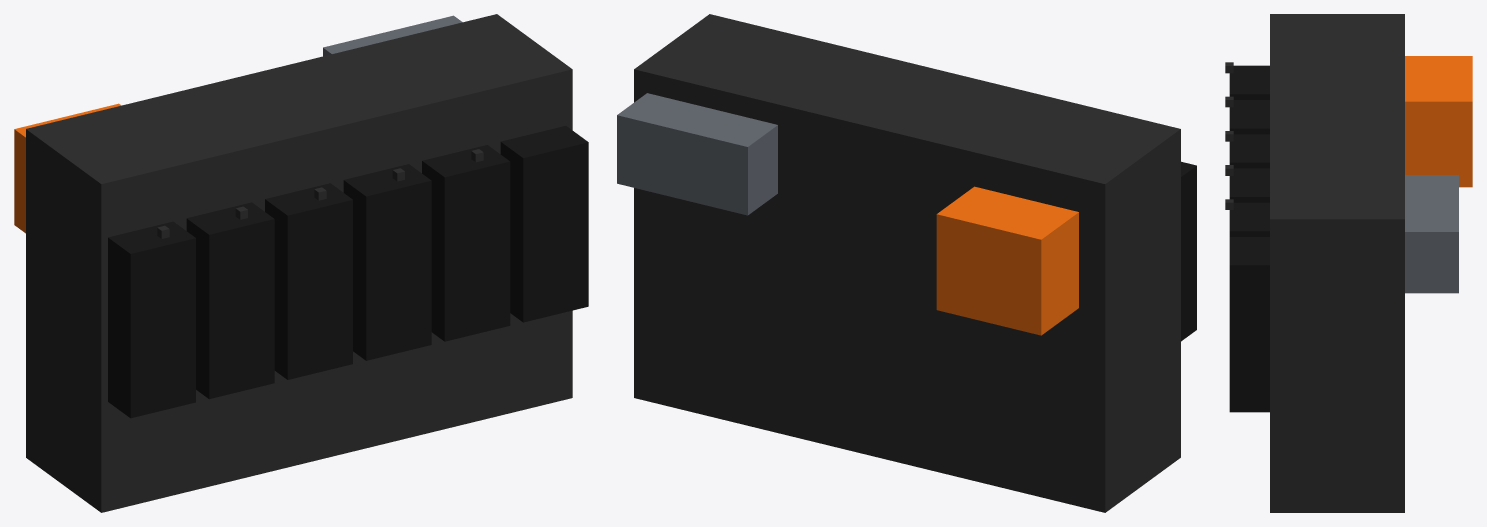
File: ENV_ToolPouch.fbx
3 views of the same model, side by side, from view 1: azimuth 30°, elevation 25°; view 2: azimuth 150°, elevation 25°; view 3: azimuth 270°, elevation 25° (orthographic). The views are drawn at different scales.
Parts seen in each view (by area): view 1: ENV_ToolPouch, Pocket_5, Pocket_9, Pocket_10, Pocket_8, Pocket_6, Pocket_7, BoltBag, SocketCase; view 2: ENV_ToolPouch, BoltBag, SocketCase, Pocket_5; view 3: ENV_ToolPouch, BoltBag, Pocket_10, SocketCase, Pocket_9, Pocket_5, Pocket_6, Pocket_8, Pocket_7.
Boxes of the visible parts, x1,y1,x2,y2 form: ENV_ToolPouch: (26,14,572,512); Pocket_5: (108,221,195,418); Pocket_9: (422,145,510,341); Pocket_10: (500,126,588,322); Pocket_8: (343,164,431,360); Pocket_6: (186,202,274,399); Pocket_7: (265,183,352,379); BoltBag: (14,103,121,233); SocketCase: (323,15,462,56); ENV_ToolPouch: (634,14,1180,512); BoltBag: (936,186,1078,335); SocketCase: (617,93,777,215); Pocket_5: (1181,161,1196,341); ENV_ToolPouch: (1270,14,1404,512); BoltBag: (1405,56,1472,187); Pocket_10: (1229,237,1269,412); SocketCase: (1405,175,1458,293); Pocket_9: (1229,202,1269,236); Pocket_5: (1229,65,1269,99); Pocket_6: (1229,100,1269,134); Pocket_8: (1229,168,1269,202); Pocket_7: (1229,134,1269,168).
Size of the model in its own units: 0.36 by 0.24 by 0.183.
3 materials, 3 textured.
